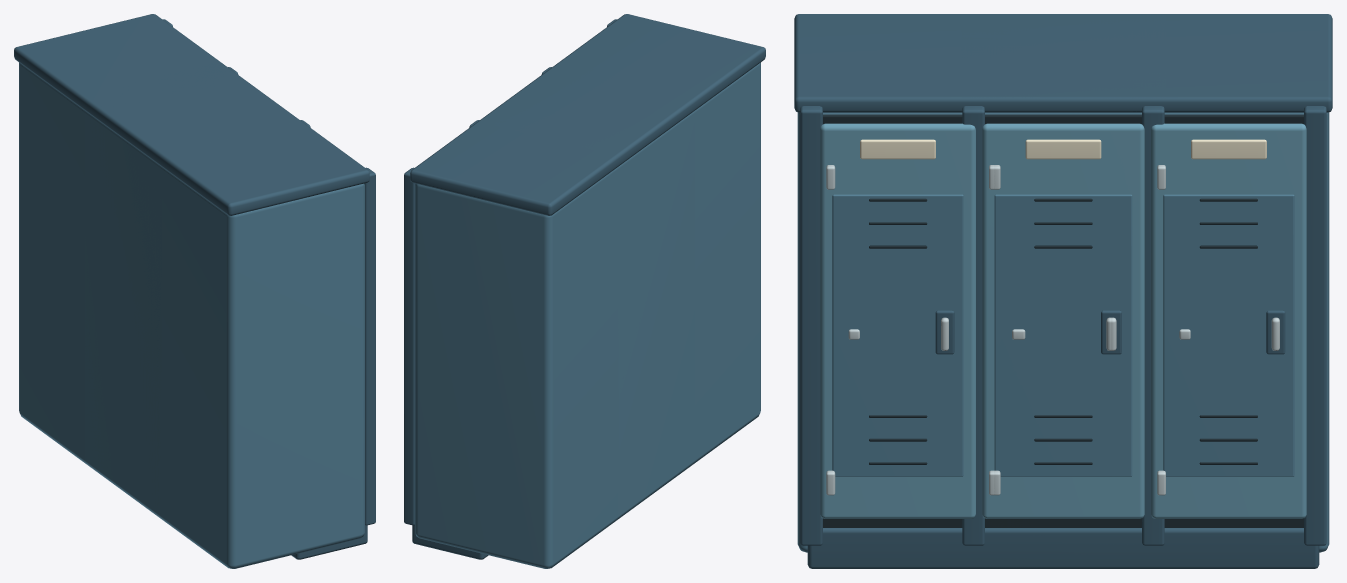
Rendered from lockers.glb.
3 views of the same model, side by side, from view 1: azimuth 30°, elevation 25°; view 2: azimuth 150°, elevation 25°; view 3: azimuth 270°, elevation 25° (orthographic). The views are drawn at different scales.
Parts seen in each view (by area): view 1: School Locker Hall Bank - cabinet carcass, School Locker Hall Bank - top cap, School Locker Single - cabinet carcass, School Locker Single - top cap, School Locker Hall Bank - face stile, School Locker Hall Bank - kick plate; view 2: School Locker Hall Bank - cabinet carcass, School Locker Hall Bank - top cap, School Locker Single - cabinet carcass, School Locker Single - top cap, School Locker Hall Bank - face stile.001, School Locker Hall Bank - kick plate; view 3: School Locker Hall Bank - top cap, School Locker Hall Bank - inset panel 3, School Locker Hall Bank - inset panel 1, School Locker Hall Bank - inset panel 2, School Locker Hall Bank - door 3, School Locker Hall Bank - door 1, School Locker Hall Bank - kick plate, School Locker Hall Bank - door 2, School Locker Single - inset panel 1, School Locker Single - door 1, School Locker Single - top cap, School Locker Hall Bank - face stile (+10 smaller).
Part boxes in pixels (x1,y1,x2,y2): School Locker Hall Bank - cabinet carcass: (19,62,364,568); School Locker Hall Bank - top cap: (14,14,369,215); School Locker Single - cabinet carcass: (85,113,162,519); School Locker Single - top cap: (79,62,302,165); School Locker Hall Bank - face stile: (364,167,375,525); School Locker Hall Bank - kick plate: (291,525,367,559); School Locker Hall Bank - cabinet carcass: (415,62,760,568); School Locker Hall Bank - top cap: (410,14,765,215); School Locker Single - cabinet carcass: (617,111,694,519); School Locker Single - top cap: (478,62,700,166); School Locker Hall Bank - face stile.001: (404,167,415,525); School Locker Hall Bank - kick plate: (412,525,488,559); School Locker Hall Bank - top cap: (794,14,1332,112); School Locker Hall Bank - inset panel 3: (1163,194,1294,476); School Locker Hall Bank - inset panel 1: (832,194,963,476); School Locker Hall Bank - inset panel 2: (999,194,1127,476); School Locker Hall Bank - door 3: (1151,123,1306,518); School Locker Hall Bank - door 1: (820,123,975,518); School Locker Hall Bank - kick plate: (807,528,1319,568); School Locker Hall Bank - door 2: (990,123,1136,518); School Locker Single - inset panel 1: (994,194,1132,476); School Locker Single - door 1: (982,123,1144,518); School Locker Single - top cap: (961,14,1165,112); School Locker Hall Bank - face stile: (800,106,822,545).
Size of the model in its own units: 0.917 by 2.05 by 2.12.
